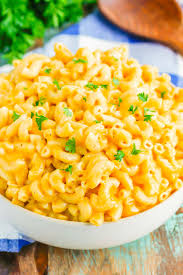macncheese: (11, 54, 168, 203)
